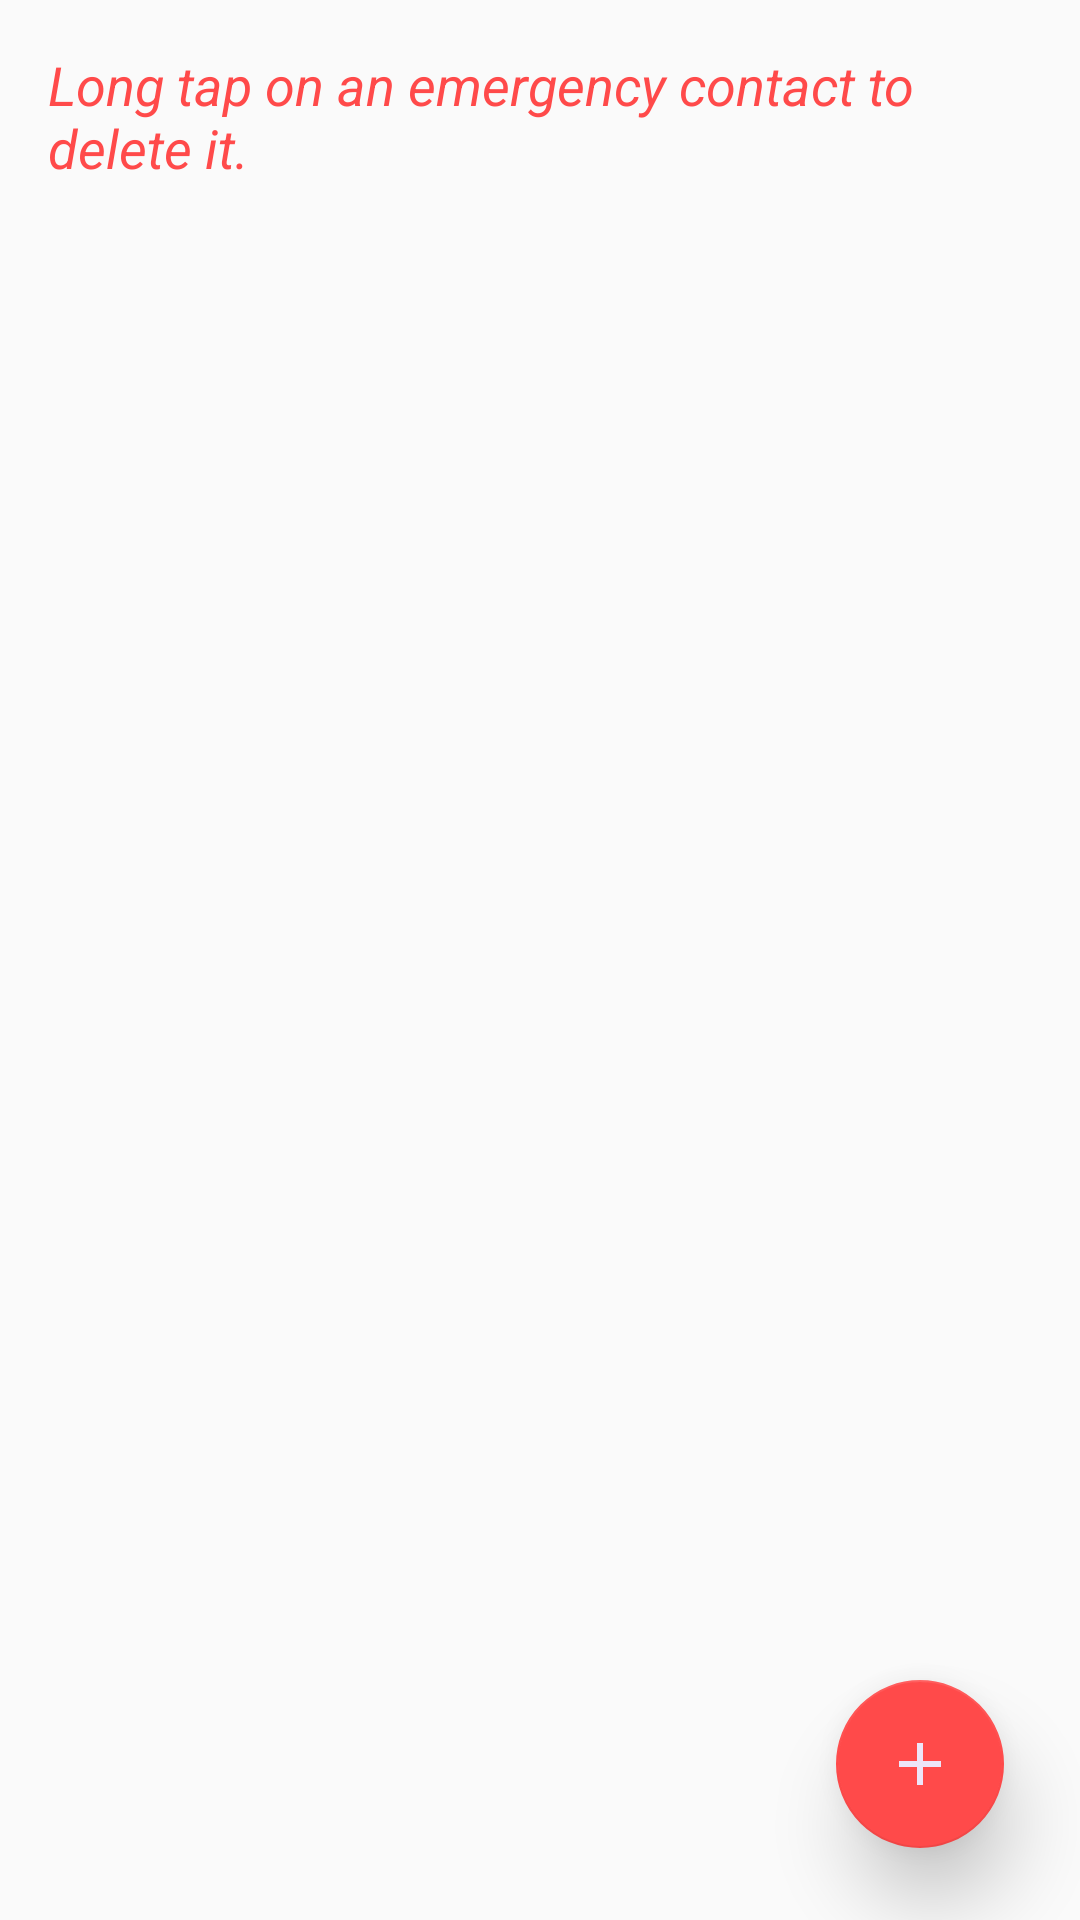

Icons on this 1080w x 1920h Android screen, each with the point to tap as [x,y]:
add: [920,1764]
